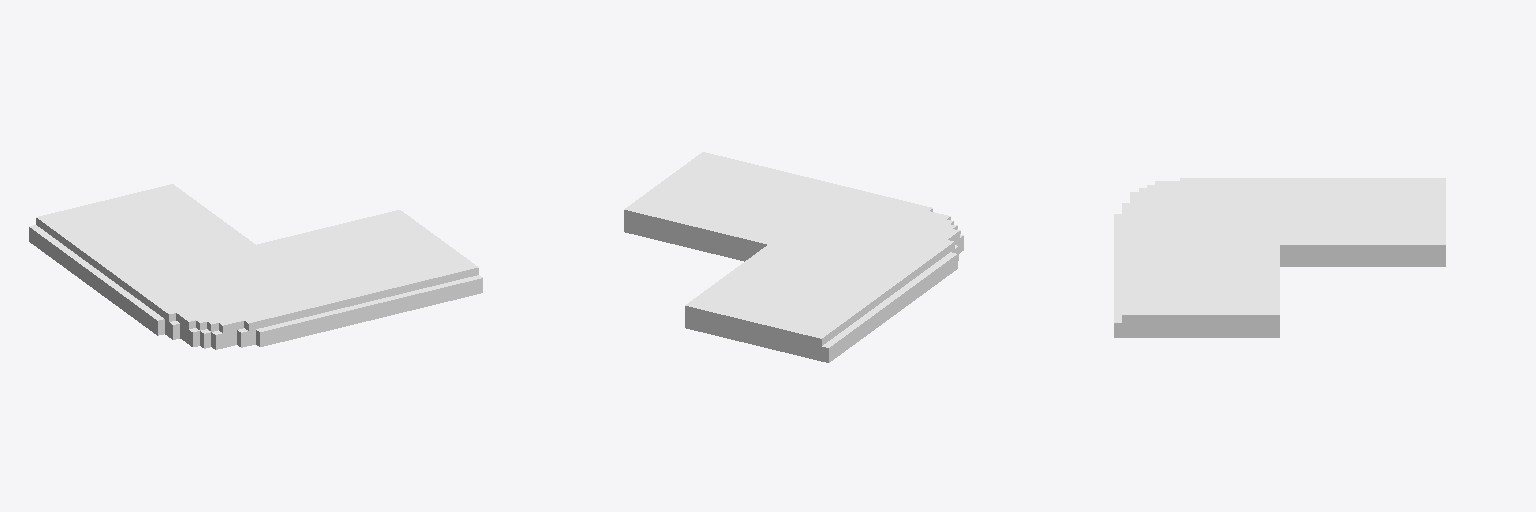
The model's file is Path2.obj.
The picture shows the model from 3 angles: view 1: azimuth 30°, elevation 25°; view 2: azimuth 150°, elevation 25°; view 3: azimuth 270°, elevation 25°; orthographic projection.
Parts seen in each view (by area): view 1: object 1; view 2: object 1; view 3: object 1.
Boxes of the visible parts, <box> form: object 1: <box>29,184,482,349</box>; object 1: <box>624,152,963,362</box>; object 1: <box>1114,178,1445,337</box>.
Bounding box in the file's own units: 4 × 0.3 × 4.